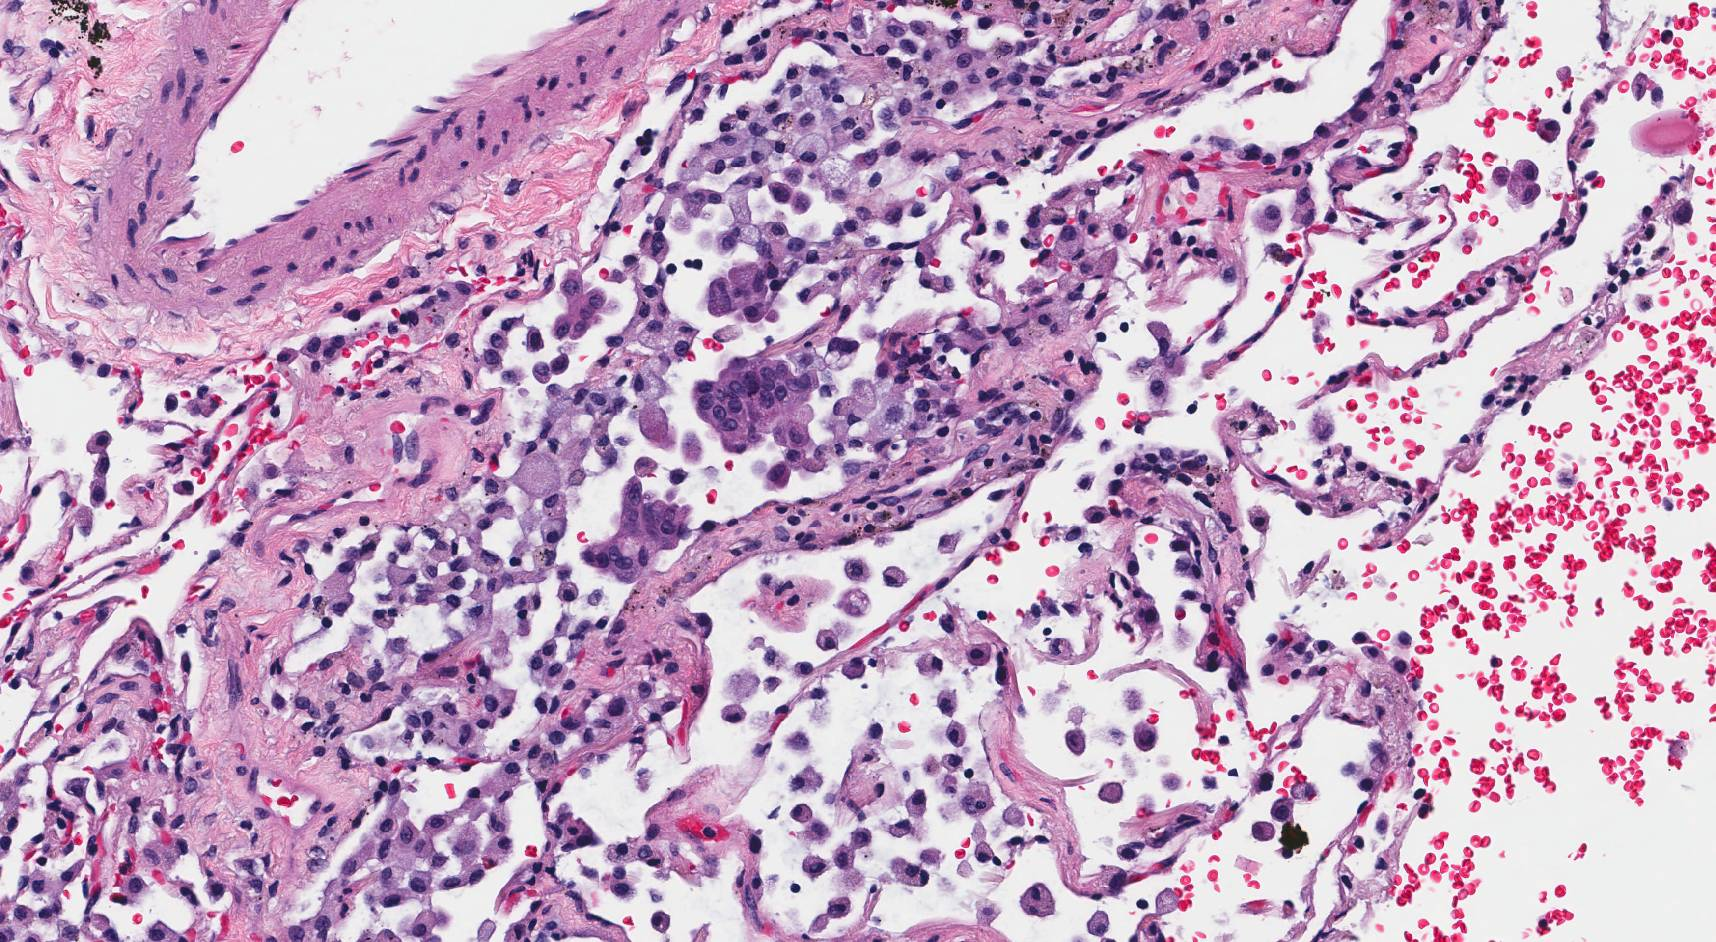stas: (696, 359, 822, 488), (579, 480, 693, 585), (550, 271, 603, 340), (708, 263, 769, 323)
